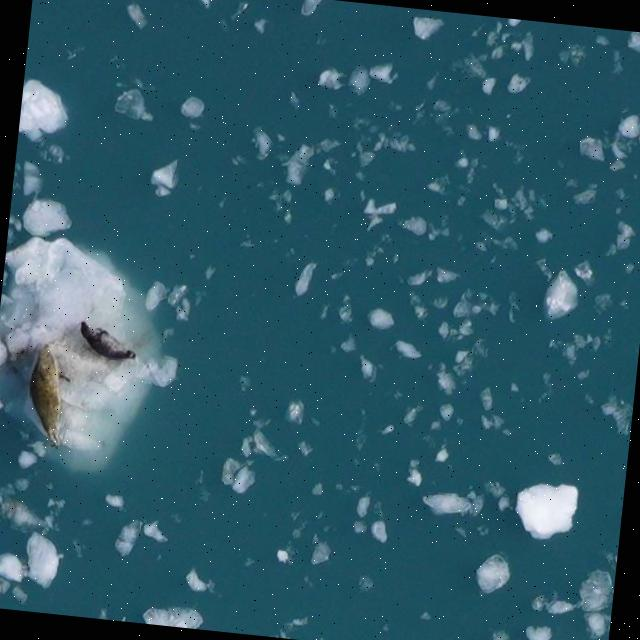seal: (26, 343, 72, 446), (71, 313, 139, 373)
